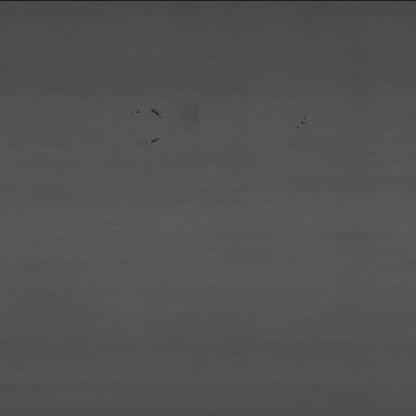inclusion: (288, 107, 325, 143), (138, 102, 180, 117), (126, 134, 174, 146)
